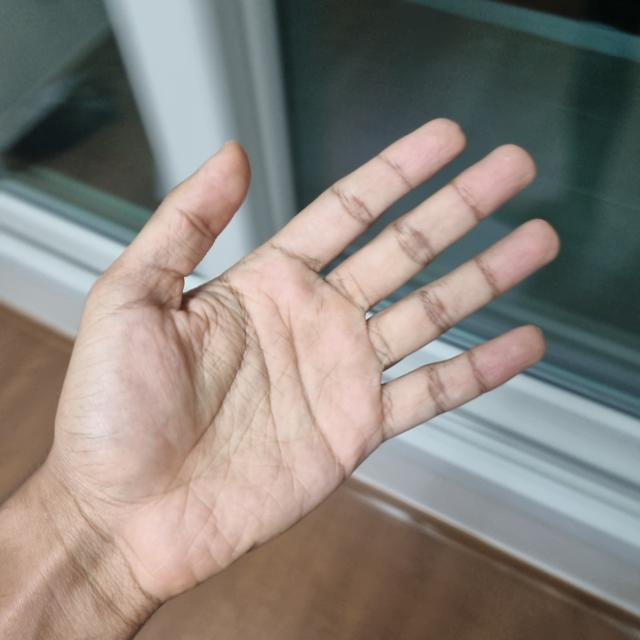Paper: (0, 120, 627, 639)
